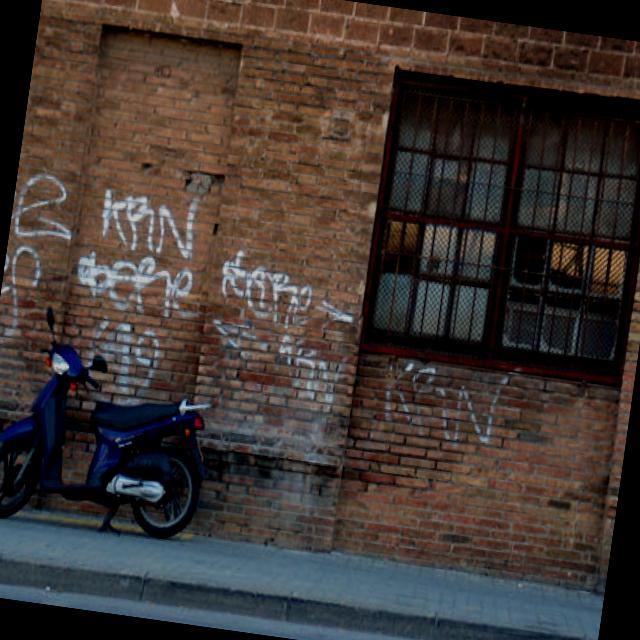Vehicle: (0, 292, 233, 547)
